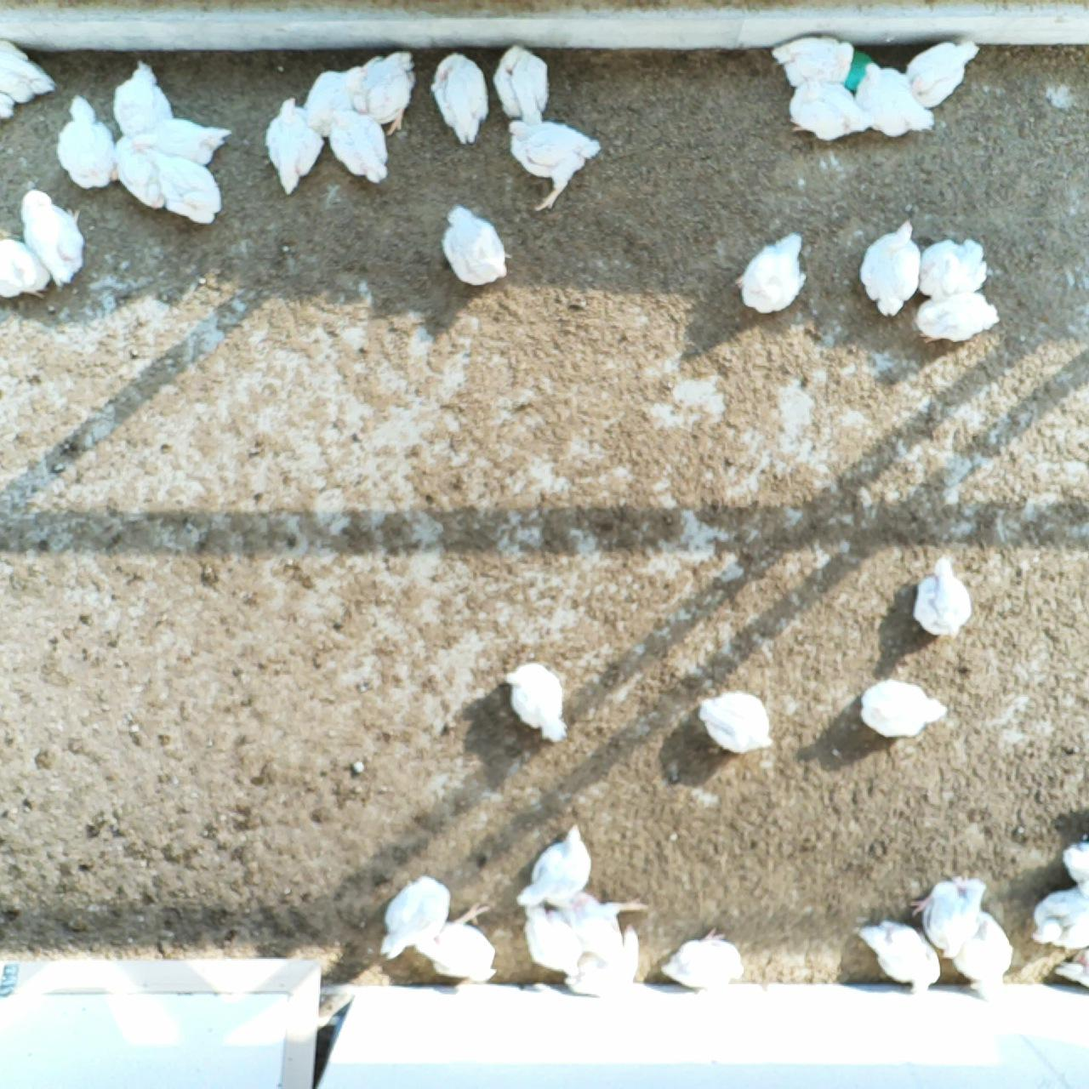chicken: (505, 115, 603, 213), (513, 821, 597, 913), (376, 871, 456, 965), (908, 871, 990, 961), (854, 914, 945, 995), (17, 186, 88, 289), (852, 60, 936, 141), (142, 146, 224, 228), (263, 95, 327, 200), (734, 231, 812, 316), (858, 218, 924, 318), (566, 921, 647, 1002), (562, 886, 648, 961), (786, 68, 872, 143), (656, 923, 748, 993), (55, 93, 119, 193), (441, 201, 514, 287), (430, 50, 494, 148), (499, 660, 571, 746), (351, 46, 419, 137), (858, 674, 951, 740), (428, 897, 500, 982), (697, 687, 778, 757), (912, 552, 977, 639), (518, 899, 586, 981), (905, 37, 981, 110), (954, 909, 1016, 998), (129, 115, 233, 167), (109, 57, 175, 138), (328, 103, 392, 184), (916, 235, 992, 301), (912, 290, 1002, 345), (491, 41, 549, 125), (770, 33, 855, 90), (305, 64, 370, 138), (110, 134, 167, 212), (1028, 882, 1089, 951), (0, 36, 60, 106), (0, 237, 53, 303), (1062, 836, 1089, 898), (1053, 944, 1089, 990)
